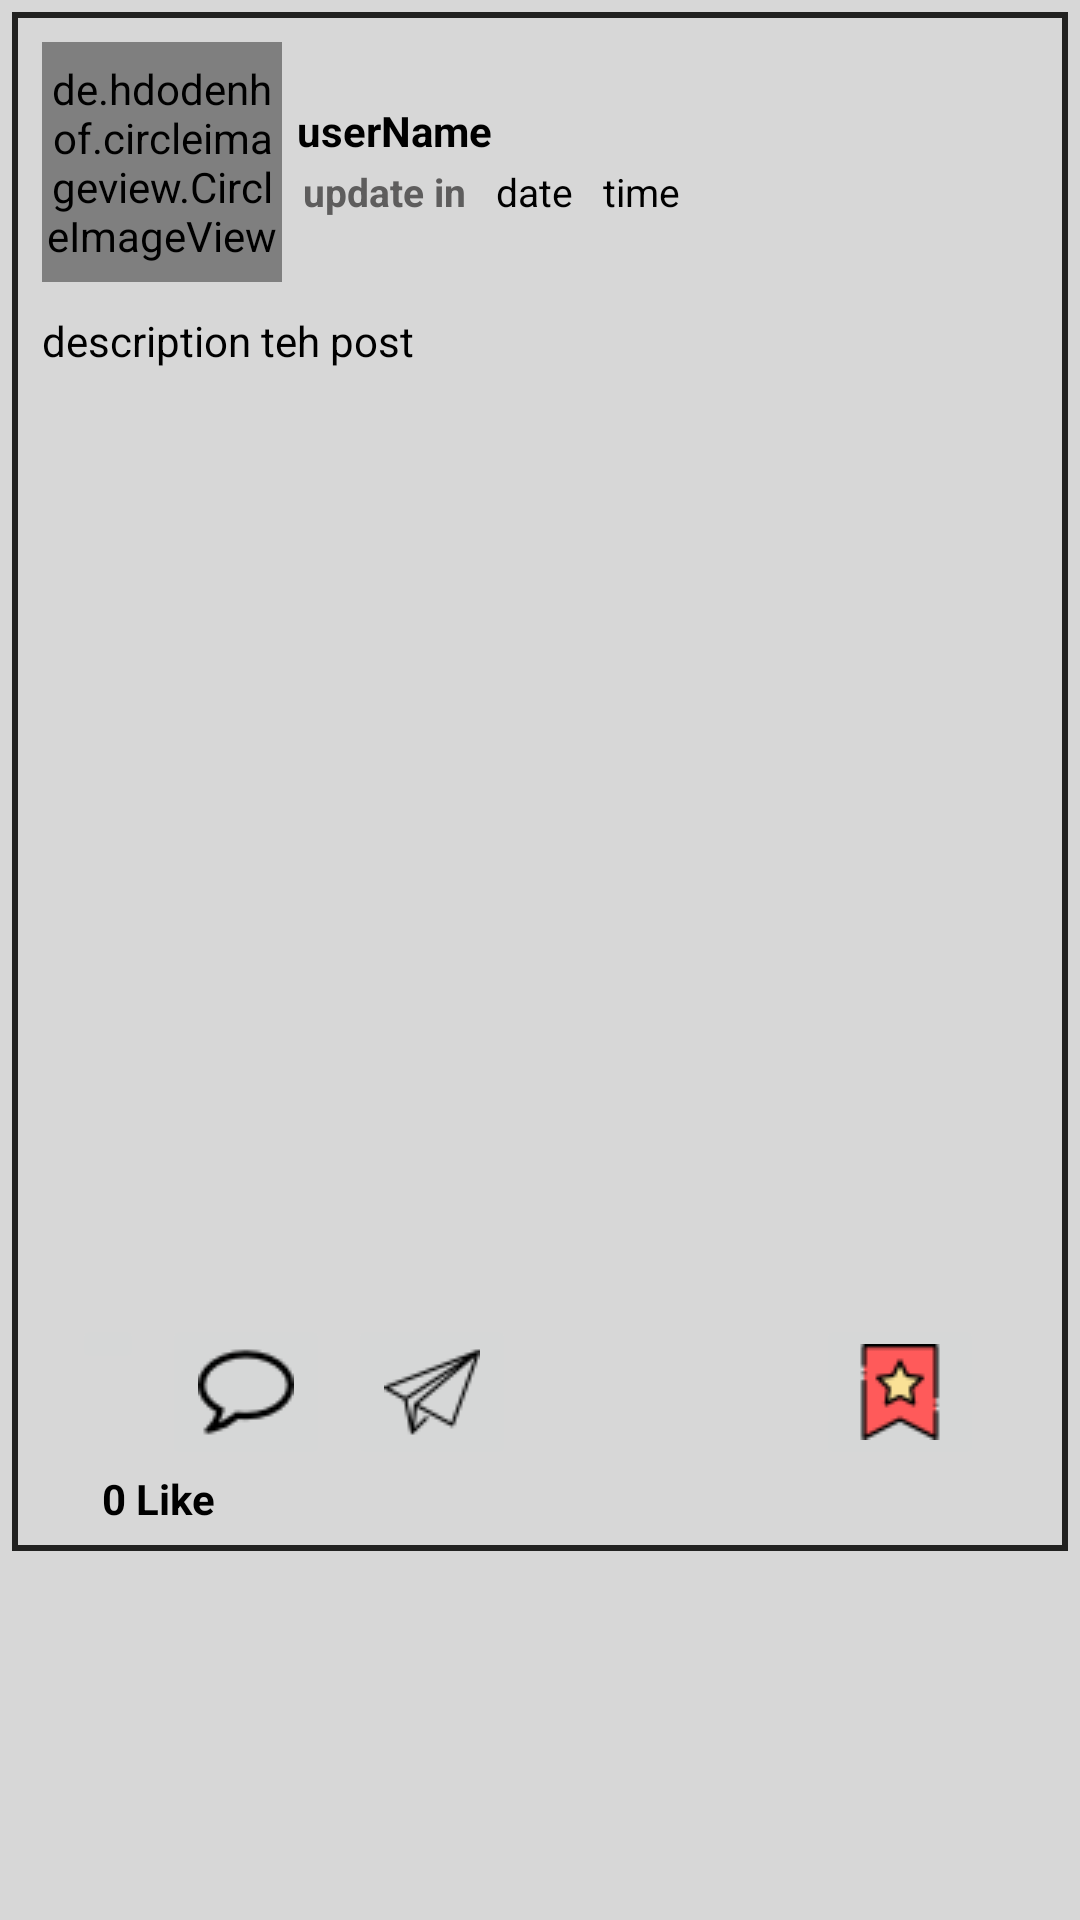

Named icons in this screenshot (1080 × 1920) and their centers, (x,y):
newcomment: (246,1392)
savepost: (900,1392)
share: (432,1392)
